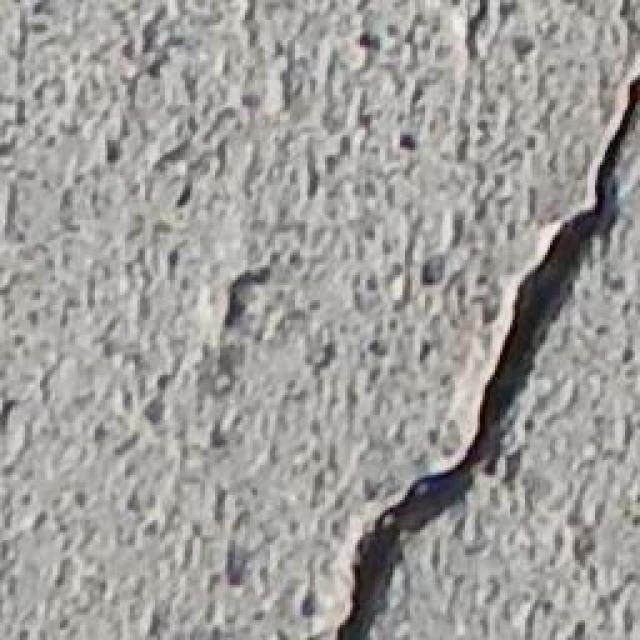concrete-crack: (318, 57, 639, 640)
